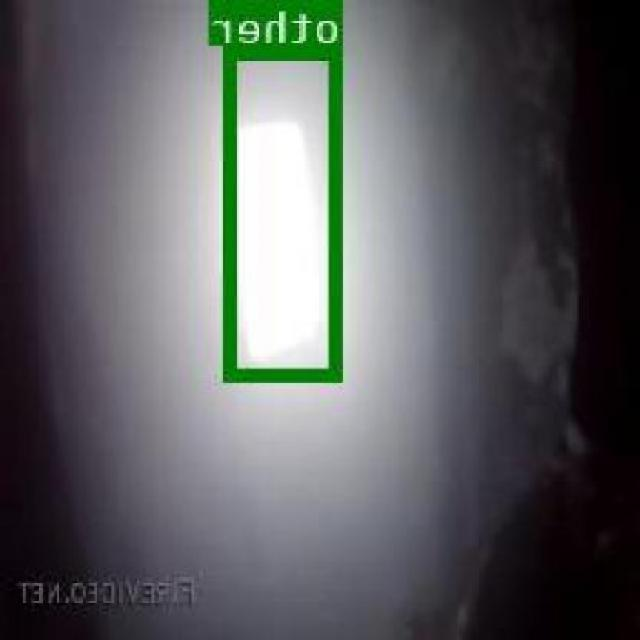other: (226, 43, 343, 380)
